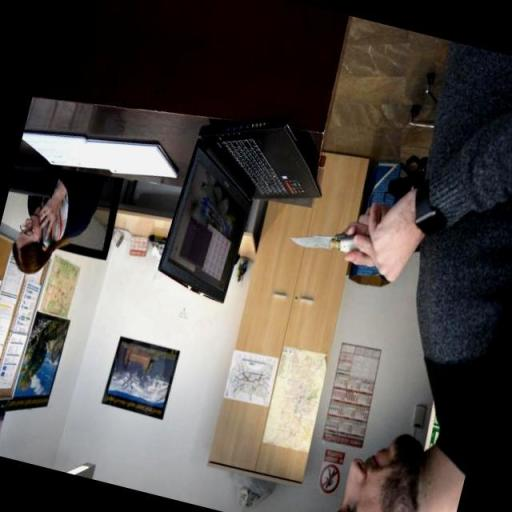knife: (281, 214, 366, 270)
